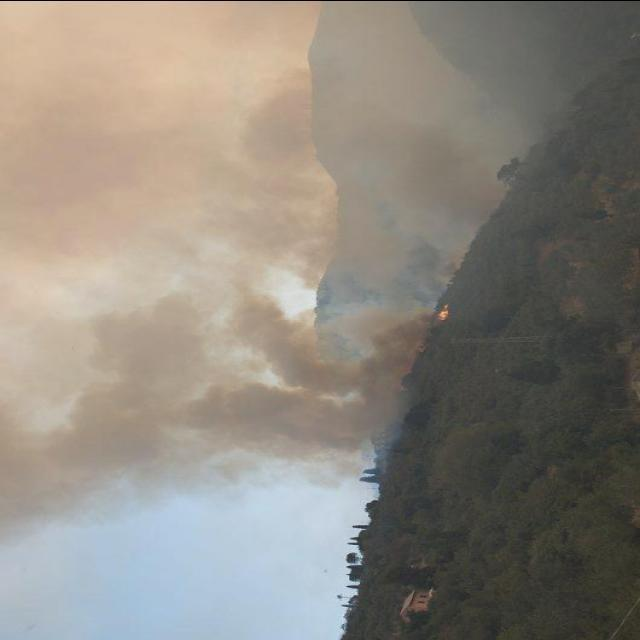Fire: (434, 307, 449, 320)
